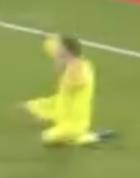goalkeeper: (19, 22, 126, 159)
